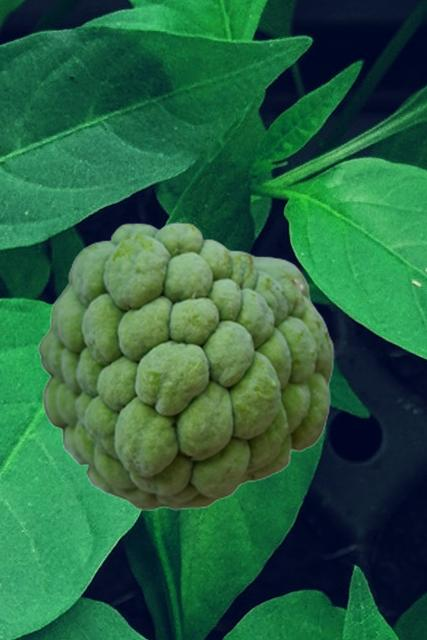atis: (37, 222, 333, 509)
